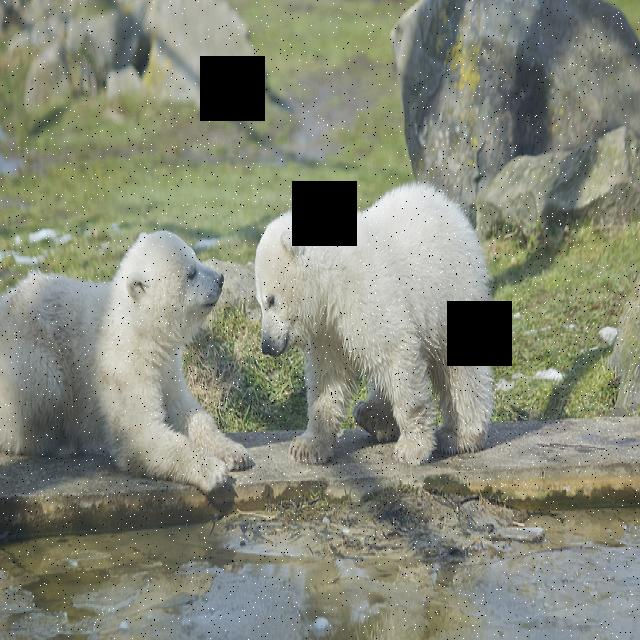Bear: (251, 176, 496, 466), (0, 231, 250, 474)
